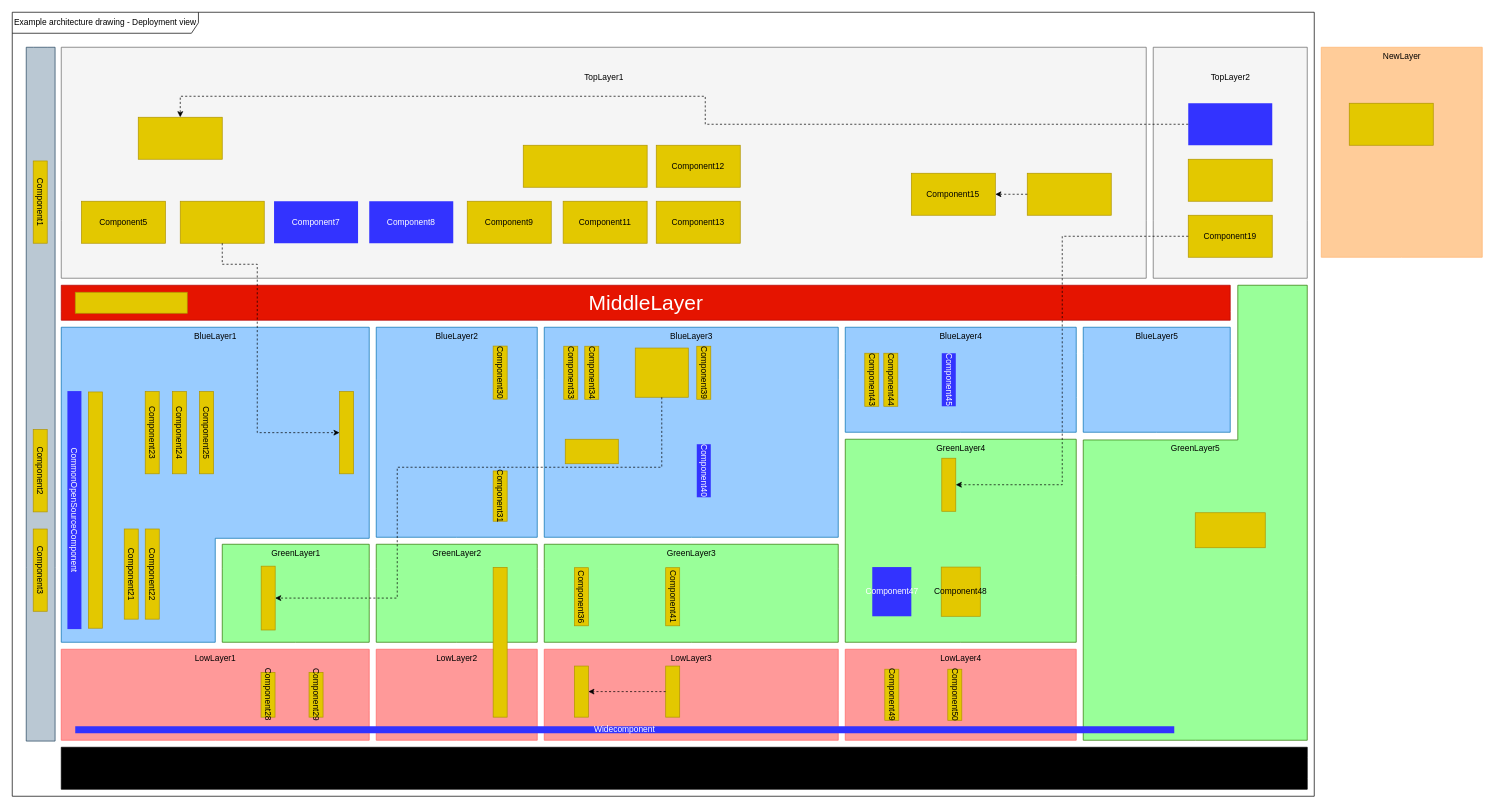
Image size: 1495x809. Some labels were removed from this diagram. The shapes that lost their labels are listed below. From the top down, each one's centre as x and y in pixels, then its label:
the point at 180,138: Component4
the point at 1230,124: Component17
the point at 1391,124: NewComponent
the point at 585,166: Component10
the point at 1230,180: Component18
the point at 1069,194: Component16
the point at 222,222: Component6
the point at 131,302: MiddleComponent
the point at 661,372: Component38
the point at 40,394: SideLayer
the point at 346,432: Component26
the point at 591,451: Component35
the point at 948,484: Component46
the point at 95,509: Component20
the point at 1230,530: NewerComponent
the point at 267,597: Component27
the point at 499,642: Component32
the point at 581,691: Component37
the point at 672,691: Component42
the point at 684,768: LowestLayer
